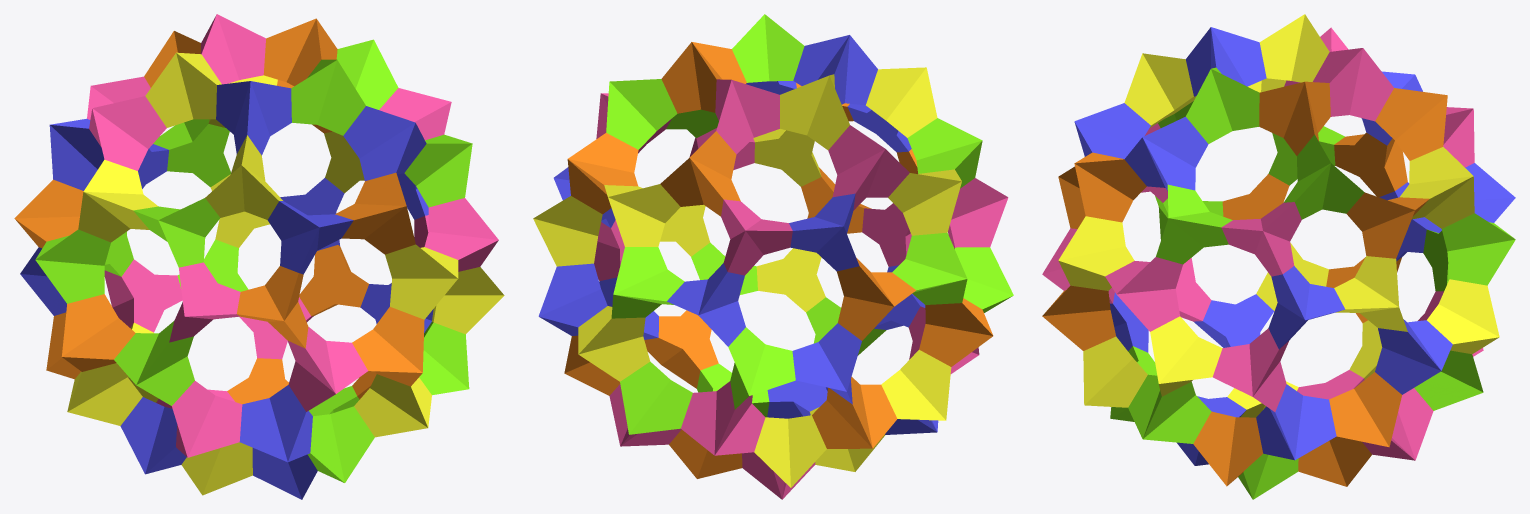
3 renders of one model, left to right at view 1: azimuth 30°, elevation 25°; view 2: azimuth 150°, elevation 25°; view 3: azimuth 270°, elevation 25°, orthographic.
Parts seen in each view (by area): view 1: Nodule (×54); view 2: Nodule (×57); view 3: Nodule (×55).
Boxes of the visible parts, bbox=[...] form: Nodule (×54): bbox=[14, 14, 504, 499]; Nodule (×57): bbox=[533, 14, 1013, 499]; Nodule (×55): bbox=[1042, 14, 1515, 499].
Bounding box in the file's own units: 26.41 × 26.01 × 25.34.
